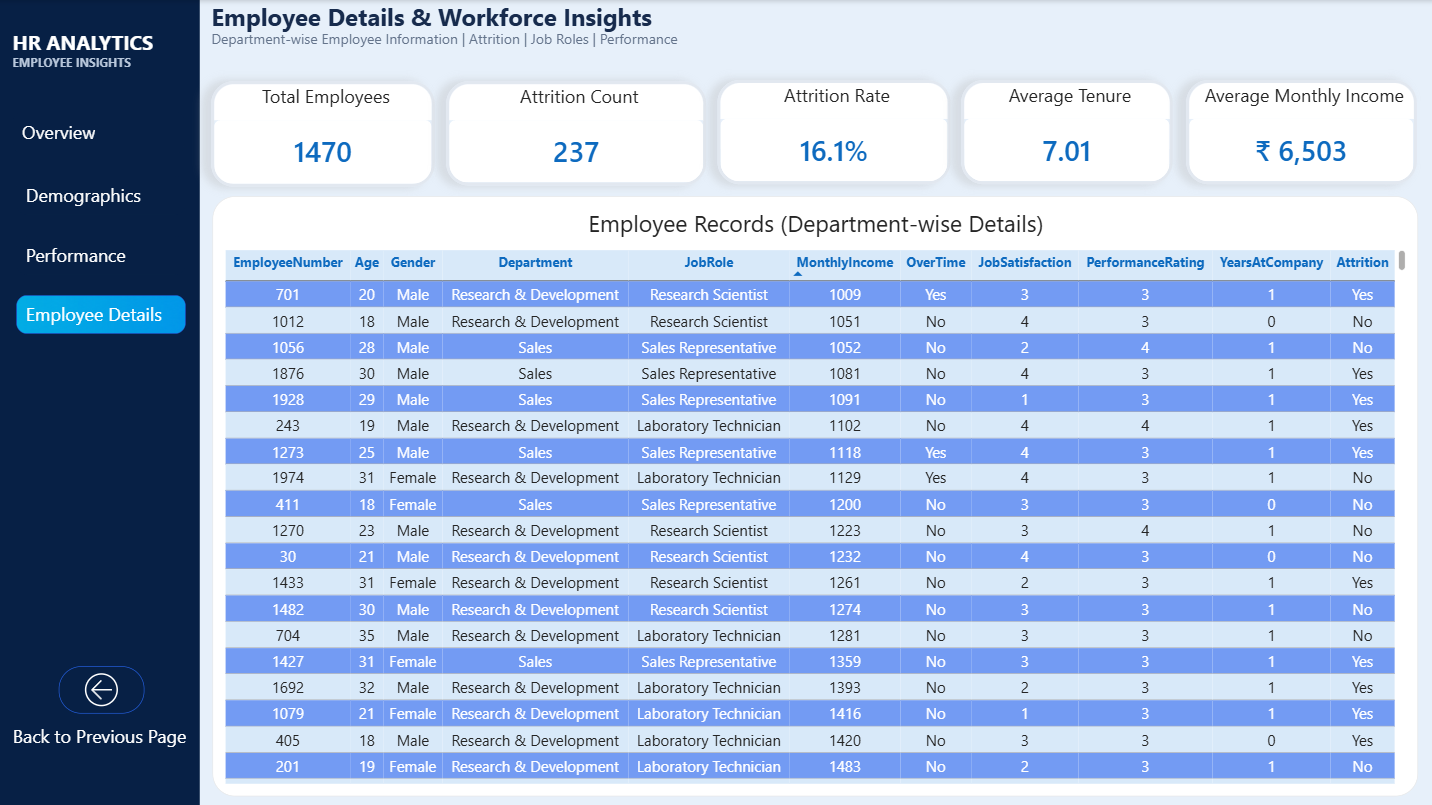

The dashboard page shown, as its layout file describes it:
{"tool":"powerbi","page":{"name":"Employee Details","canvas":[1920,1080],"ordinal":3},"visuals":[{"type":"shape","box":[0,0,266.9,1079.7],"z":0},{"type":"textbox","box":[17.4,38.4,212.8,40.1],"z":1000},{"type":"textbox","box":[17.4,71.5,183.1,36.6],"z":2000},{"type":"actionButton","box":[17.4,148.3,230.2,57.6],"z":3000},{"type":"actionButton","box":[20.9,235.5,226.7,52.3],"z":4000},{"type":"actionButton","box":[20.9,315.7,226.7,52.3],"z":5000},{"type":"textbox","box":[282,0,708,72],"z":6000},{"type":"textbox","box":[282,38,818,52],"z":7000},{"type":"cardVisual","title":"Total Employees","fields":{"Data":["Employees.Total Employees"]},"box":[282.3,108.6,298.6,141.2],"z":8000},{"type":"cardVisual","title":"Attrition Count","fields":{"Data":["Employees.Attrition Count"]},"box":[595.4,108.6,347.5,139.3],"z":9000},{"type":"cardVisual","title":"Attrition Rate","fields":{"Data":["Employees.Attrition Rate"]},"box":[959.1,106.8,311.3,139.3],"z":10000},{"type":"cardVisual","title":"Average Tenure","fields":{"Data":["Employees.Average Tenure"]},"box":[1284.9,106.8,282.3,139.3],"z":11000},{"type":"cardVisual","title":"Average Monthly Income","fields":{"Data":["Employees.Average Monthly Income"]},"box":[1585.3,106.8,307.6,139.3],"z":12000},{"type":"actionButton","box":[21.7,394.5,226.7,52.3],"z":13000},{"type":"tableEx","title":"Employee Records (Department-wise Details)","fields":{"Values":["Employees.EmployeeNumber","Employees.Age","Employees.Gender","Employees.Department","Employees.JobRole","Employees.MonthlyIncome","Employees.OverTime","Employees.JobSatisfaction","Employees.PerformanceRating","Employees.YearsAtCompany","Employees.Attrition"]},"box":[284,262,1610.6,801.7],"z":14000},{"type":"actionButton","box":[77.8,890.4,114,63.3],"z":15000},{"type":"textbox","box":[0,966.4,266,52.5],"z":16000}]}

Visuals, with their boxes on the page's 1920x1080 design canvas (x1, y1, x2, y2). These are canvas units, not pixel positions in the 1432x805 screenshot, which may show the page scaled, cropped or inside an application window:
shape: [x1=0, y1=0, x2=267, y2=1080]
textbox: [x1=17, y1=38, x2=230, y2=78]
textbox: [x1=17, y1=72, x2=200, y2=108]
actionButton: [x1=17, y1=148, x2=248, y2=206]
actionButton: [x1=21, y1=236, x2=248, y2=288]
actionButton: [x1=21, y1=316, x2=248, y2=368]
textbox: [x1=282, y1=0, x2=990, y2=72]
textbox: [x1=282, y1=38, x2=1100, y2=90]
"Total Employees" cardVisual: [x1=282, y1=109, x2=581, y2=250]
"Attrition Count" cardVisual: [x1=595, y1=109, x2=943, y2=248]
"Attrition Rate" cardVisual: [x1=959, y1=107, x2=1270, y2=246]
"Average Tenure" cardVisual: [x1=1285, y1=107, x2=1567, y2=246]
"Average Monthly Income" cardVisual: [x1=1585, y1=107, x2=1893, y2=246]
actionButton: [x1=22, y1=394, x2=248, y2=447]
"Employee Records (Department-wise Details)" tableEx: [x1=284, y1=262, x2=1895, y2=1064]
actionButton: [x1=78, y1=890, x2=192, y2=954]
textbox: [x1=0, y1=966, x2=266, y2=1019]
